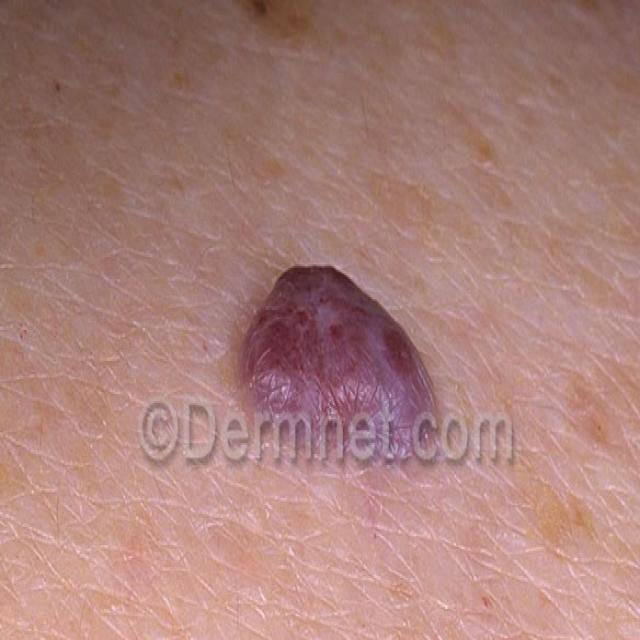Vascular Tumors: (233, 248, 443, 484)
